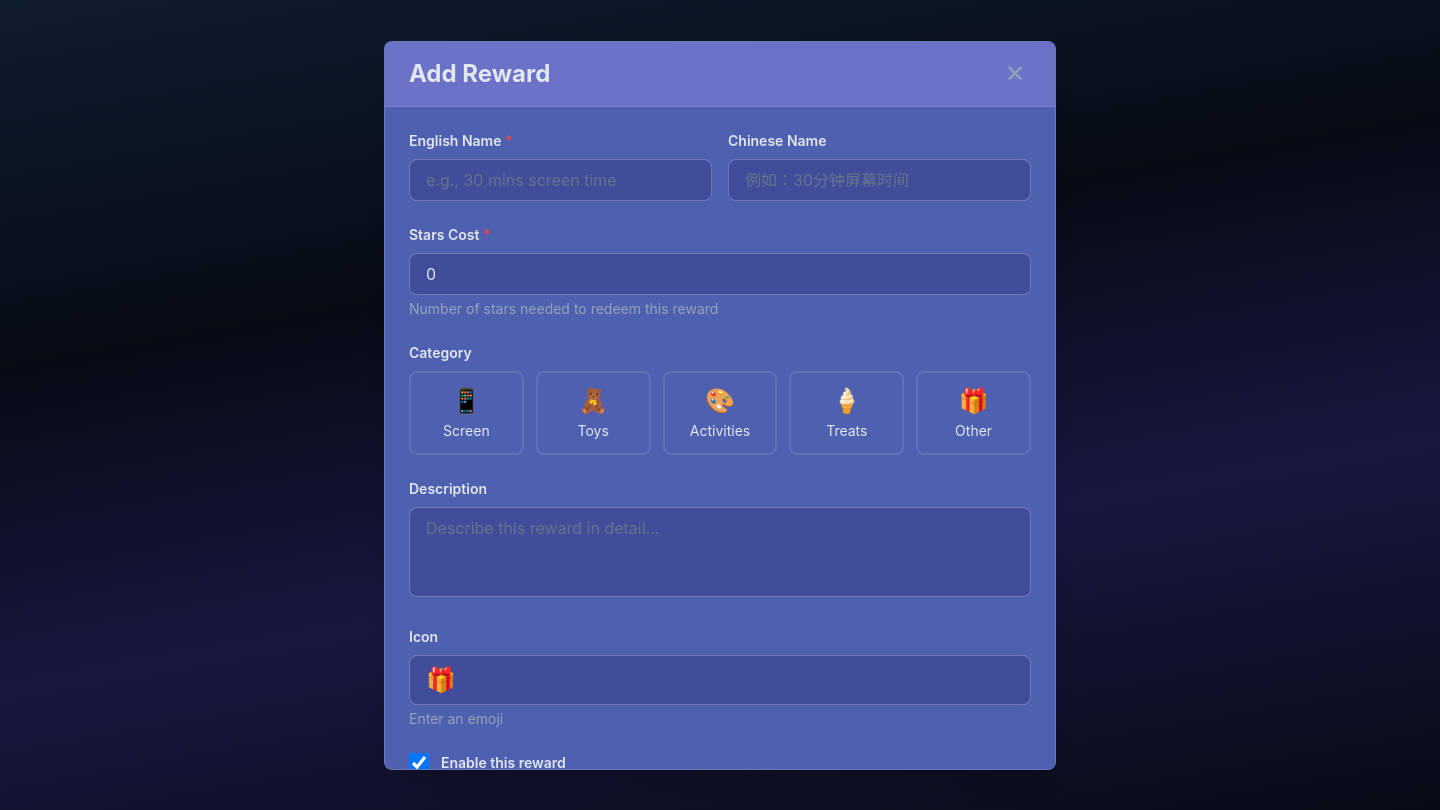
Test: RewardFormModal › Form Interaction › should update icon when selecting category for new reward
Click the button "🧸 Toys".
click(593, 412)  # box top-left (536, 370), bottom-right (651, 454)
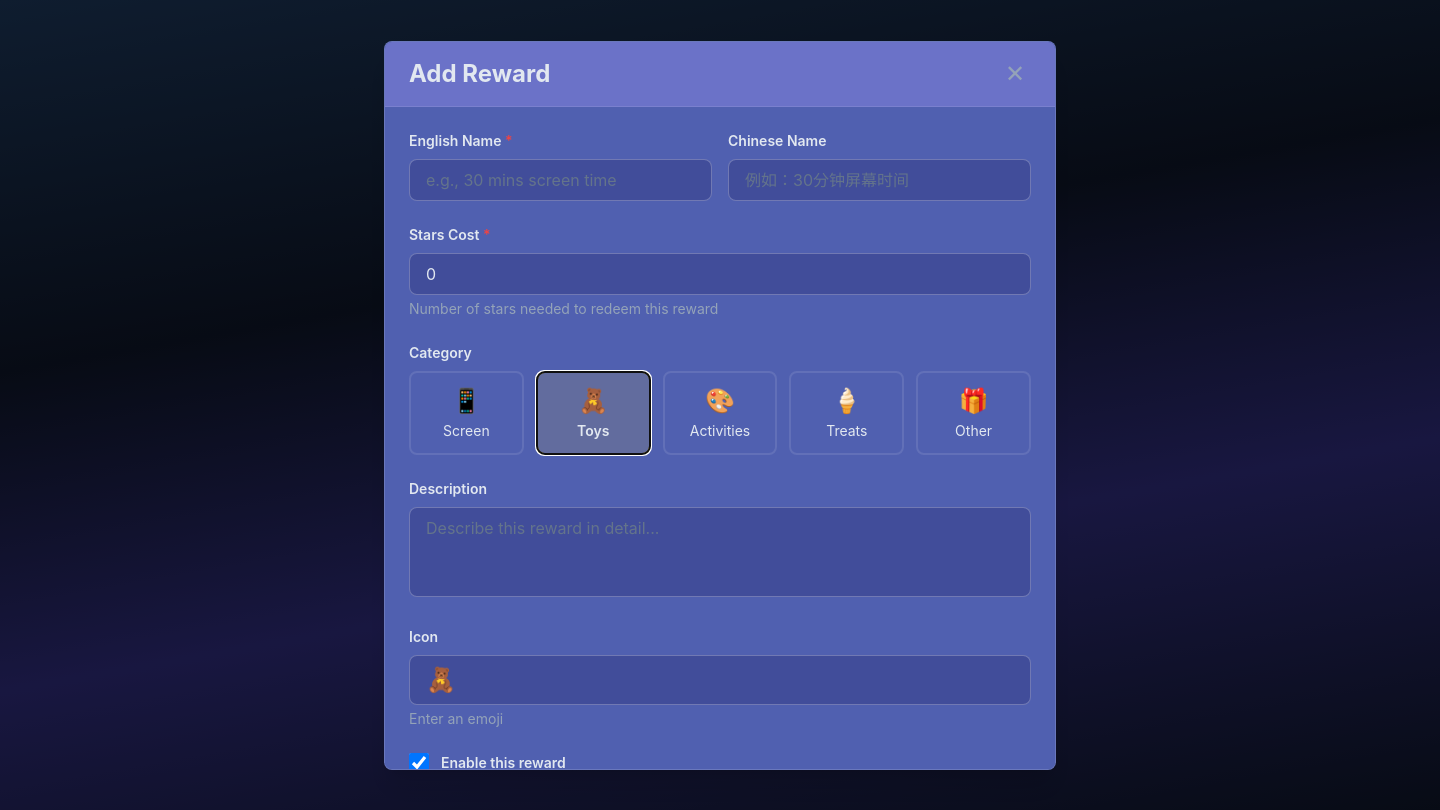
Expected: the field with placeholder "🎁" holds "🧸", top-left (409, 654), bottom-right (1031, 704)
